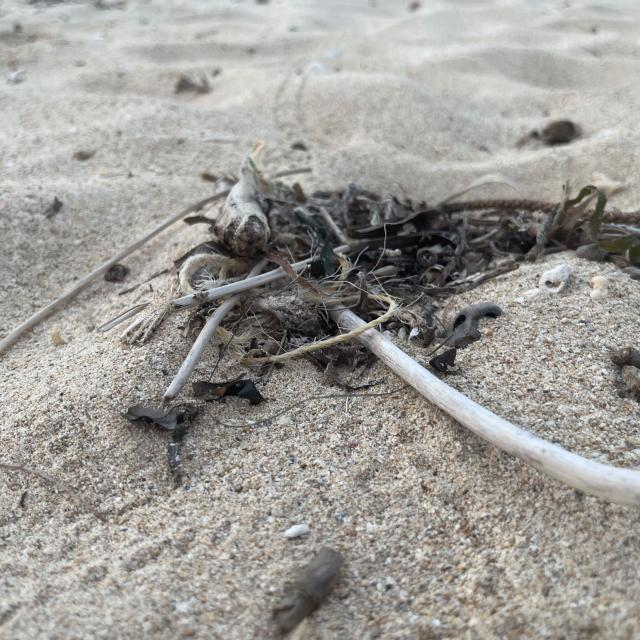seaweed: (162, 158, 634, 392)
stick: (327, 295, 640, 539)
